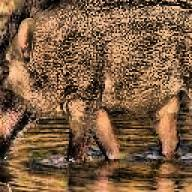boar: (0, 0, 192, 166)
